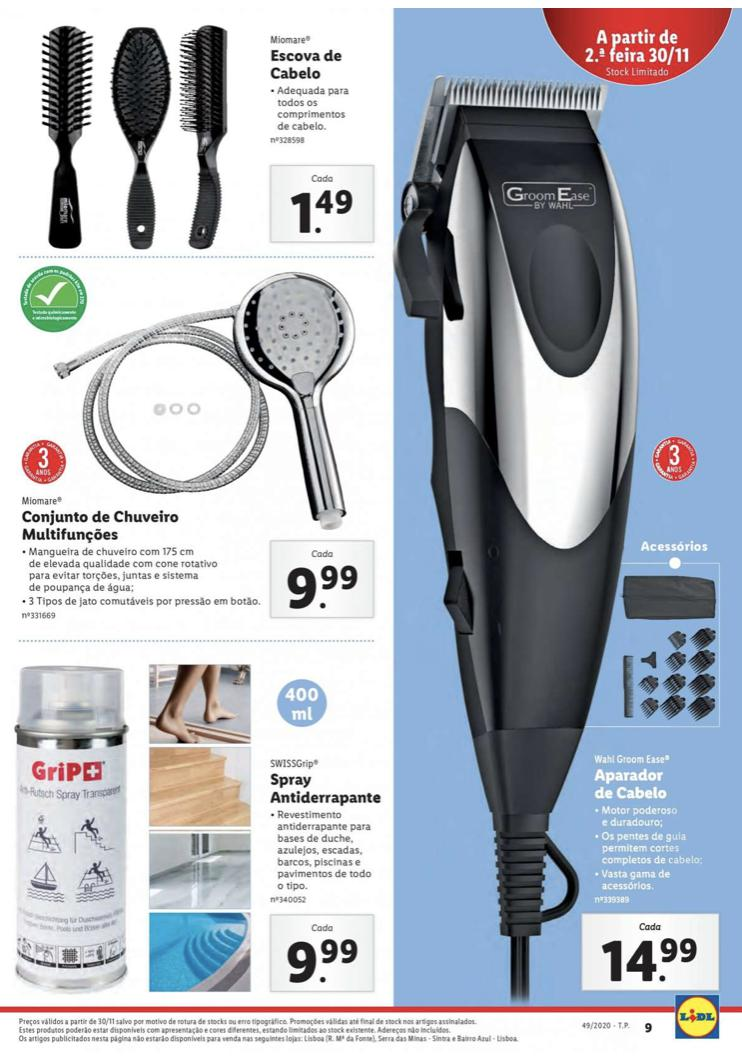name: (22, 505, 186, 541), (267, 770, 384, 806), (590, 764, 673, 803), (265, 48, 347, 82)
price: (598, 936, 701, 987), (279, 560, 364, 611), (280, 935, 359, 986), (283, 186, 361, 237)
product: (392, 56, 739, 995), (10, 264, 377, 636), (10, 656, 386, 998), (17, 20, 379, 249)
